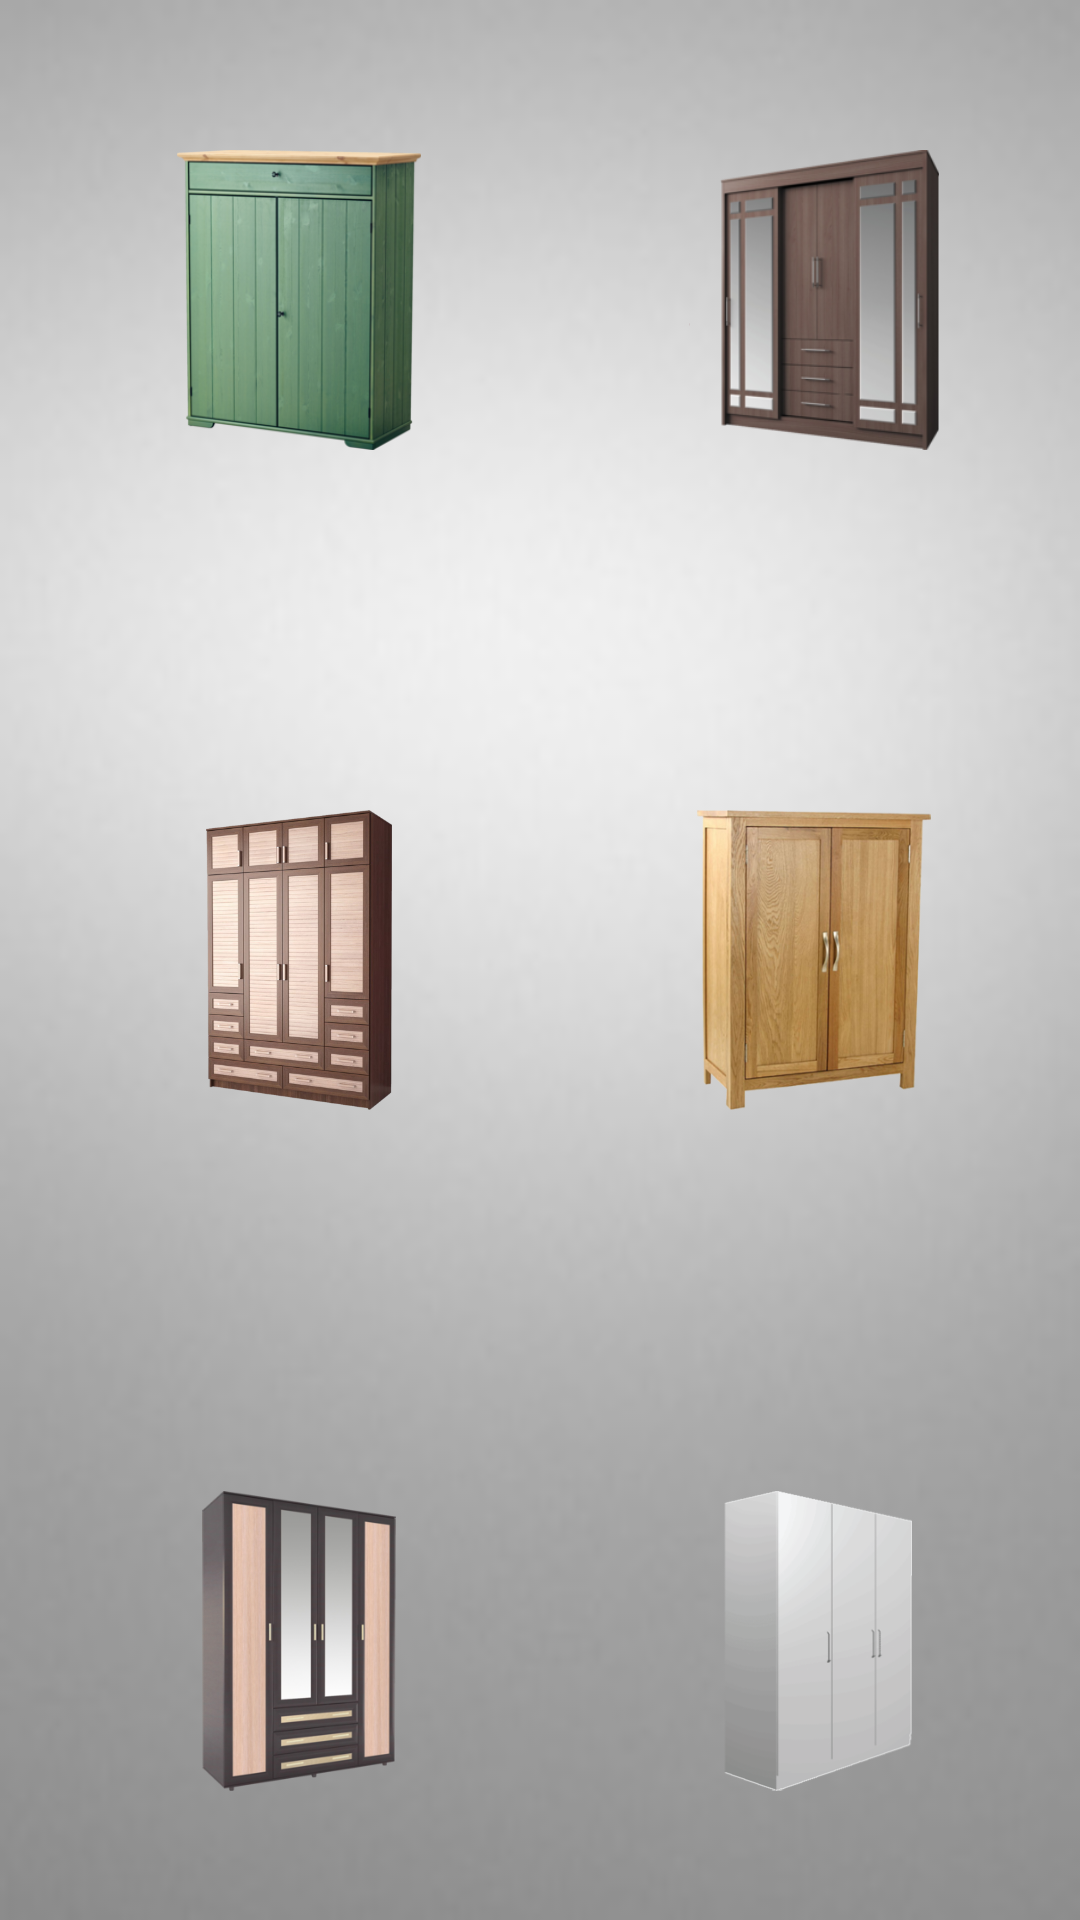

Screen size 1080 x 1920. Icon name, then its box in pixels as BBox(x1, y1, x2, y2):
cabinet: BBox(149, 150, 449, 450), BBox(664, 150, 954, 450), BBox(149, 810, 449, 1110), BBox(664, 810, 931, 1110), BBox(202, 1491, 396, 1791), BBox(725, 1491, 912, 1791)
